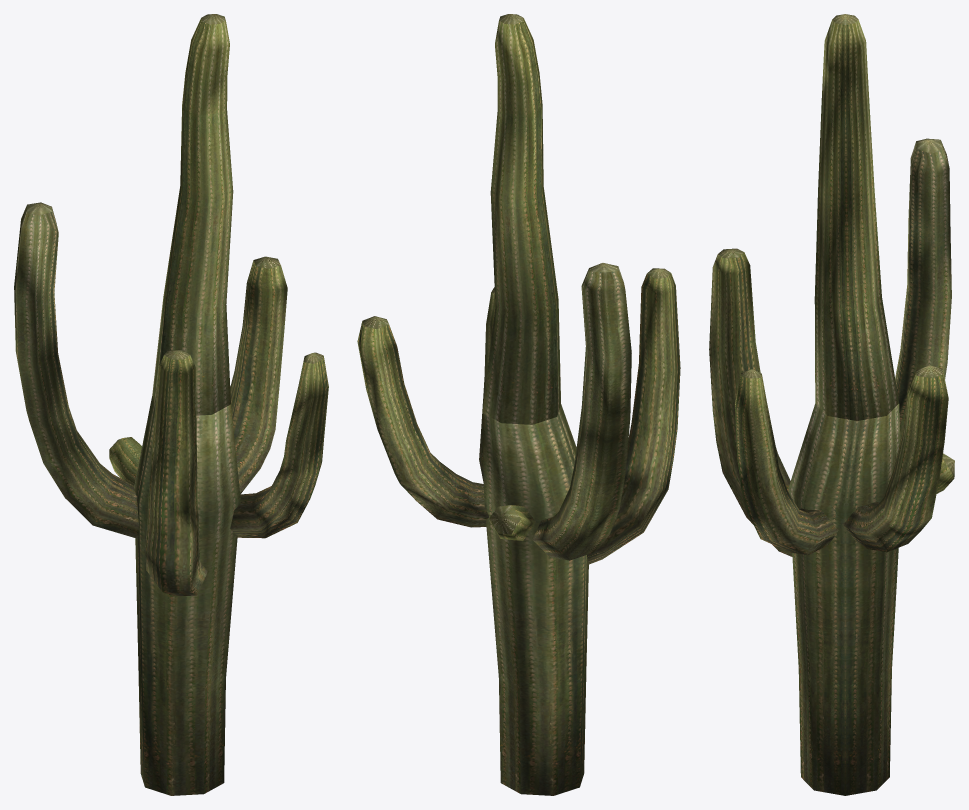
The model's file is VegetationDesert003a.glb.
3 views of the same model, side by side, from view 1: azimuth 30°, elevation 25°; view 2: azimuth 150°, elevation 25°; view 3: azimuth 270°, elevation 25° (orthographic). The views are drawn at different scales.
Parts seen in each view (by area): view 1: vegetation_desert003a; view 2: vegetation_desert003a; view 3: vegetation_desert003a.
Part boxes in pixels (x1,y1,x2,y2): vegetation_desert003a: (14,14,328,795); vegetation_desert003a: (357,14,680,795); vegetation_desert003a: (709,14,954,795).
Size of the model in its own units: 3.27 by 8.75 by 2.5.
Materials: 1 (1 with a texture image).
